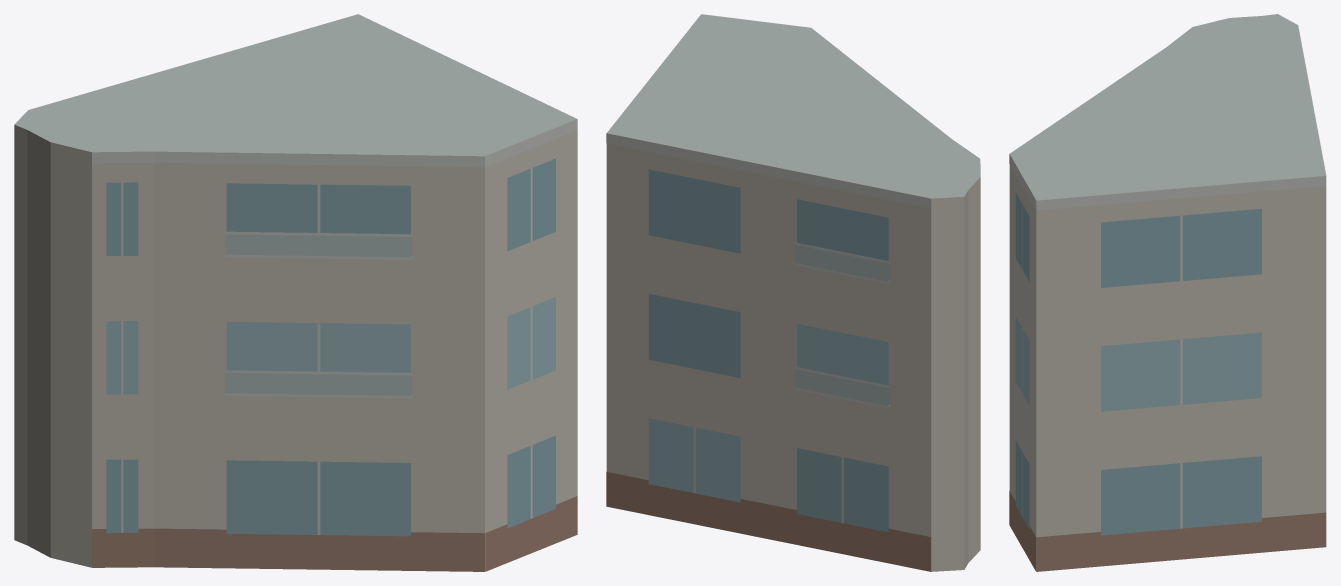
File: survey-upis-32919668.glb
The picture shows the model from 3 angles, left to right: view 1: azimuth 30°, elevation 25°; view 2: azimuth 150°, elevation 25°; view 3: azimuth 270°, elevation 25°; orthographic projection. The views are drawn at different scales.
Visible parts, largest first — view 1: survey-upis-32919668.tmp; view 2: survey-upis-32919668.tmp; view 3: survey-upis-32919668.tmp.
Boxes of the visible parts, x1,y1,x2,y2 form: survey-upis-32919668.tmp: (14,14,577,571); survey-upis-32919668.tmp: (606,14,980,571); survey-upis-32919668.tmp: (1009,14,1326,571).
Size of the model in its own units: 9.87 by 9.15 by 7.09.
